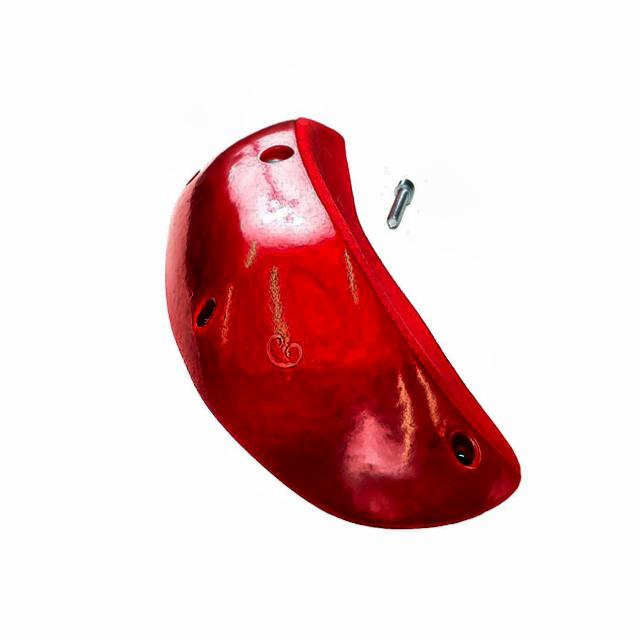Hold: (158, 106, 531, 544)
